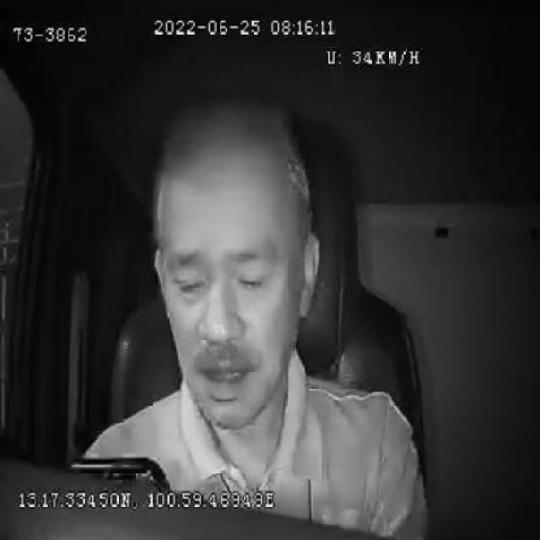phone: (66, 452, 174, 490)
